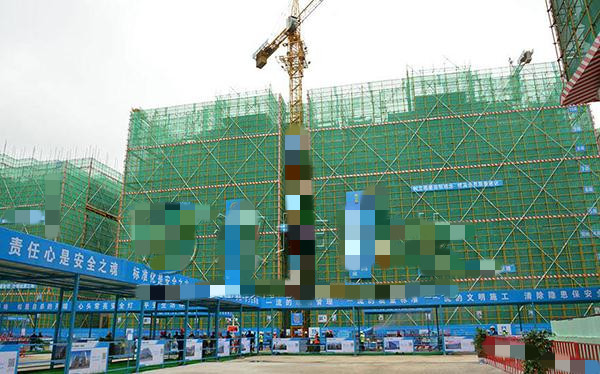slogan: (265, 287, 599, 309), (1, 228, 122, 284), (1, 302, 208, 312), (412, 178, 504, 191)
